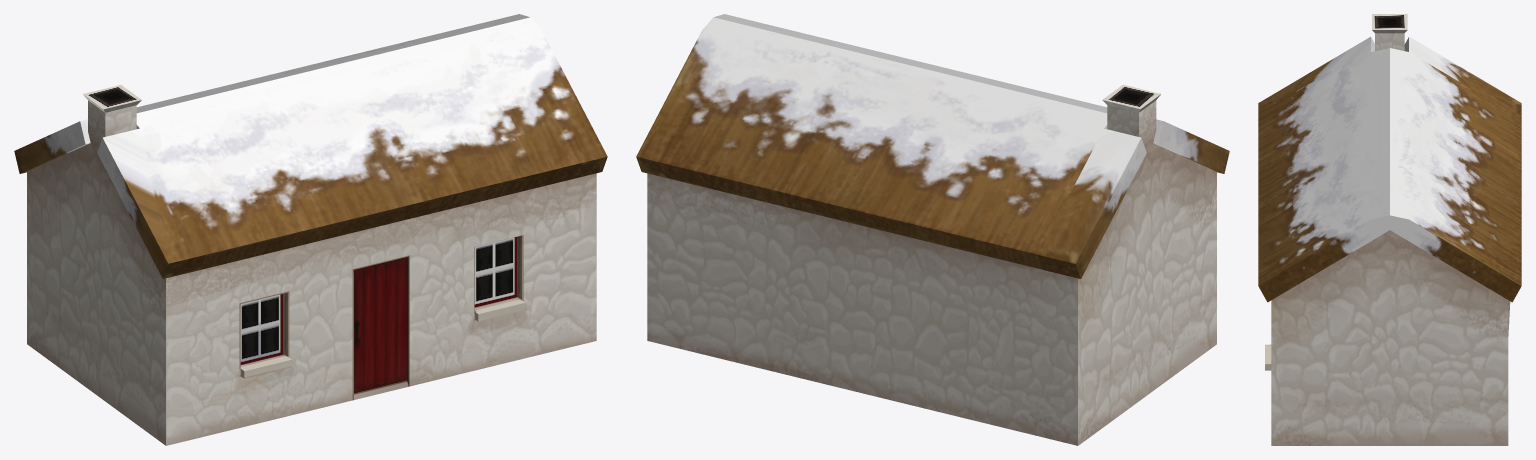
File: Cottage_Model.fbx
The picture shows the model from 3 angles, left to right: view 1: azimuth 30°, elevation 25°; view 2: azimuth 150°, elevation 25°; view 3: azimuth 270°, elevation 25°; orthographic projection. The views are drawn at different scales.
Parts seen in each view (by area): view 1: Cabin_Base, Cabin_Roof; view 2: Cabin_Base, Cabin_Roof; view 3: Cabin_Roof, Cabin_Base.
Part boxes in pixels (x1,y1,x2,y2): Cabin_Base: [27, 85, 596, 445]; Cabin_Roof: [14, 14, 607, 278]; Cabin_Base: [647, 84, 1216, 445]; Cabin_Roof: [636, 14, 1229, 278]; Cabin_Roof: [1258, 36, 1521, 302]; Cabin_Base: [1265, 14, 1510, 445].
Size of the model in its own units: 982 by 629 by 597.
Materials: 1 (1 with a texture image).
